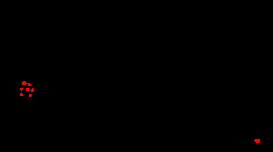Target: (254, 139, 260, 143), (22, 81, 27, 85), (31, 88, 34, 92), (28, 83, 31, 86), (20, 88, 23, 91), (26, 88, 29, 91), (20, 93, 23, 96), (29, 94, 32, 97)
